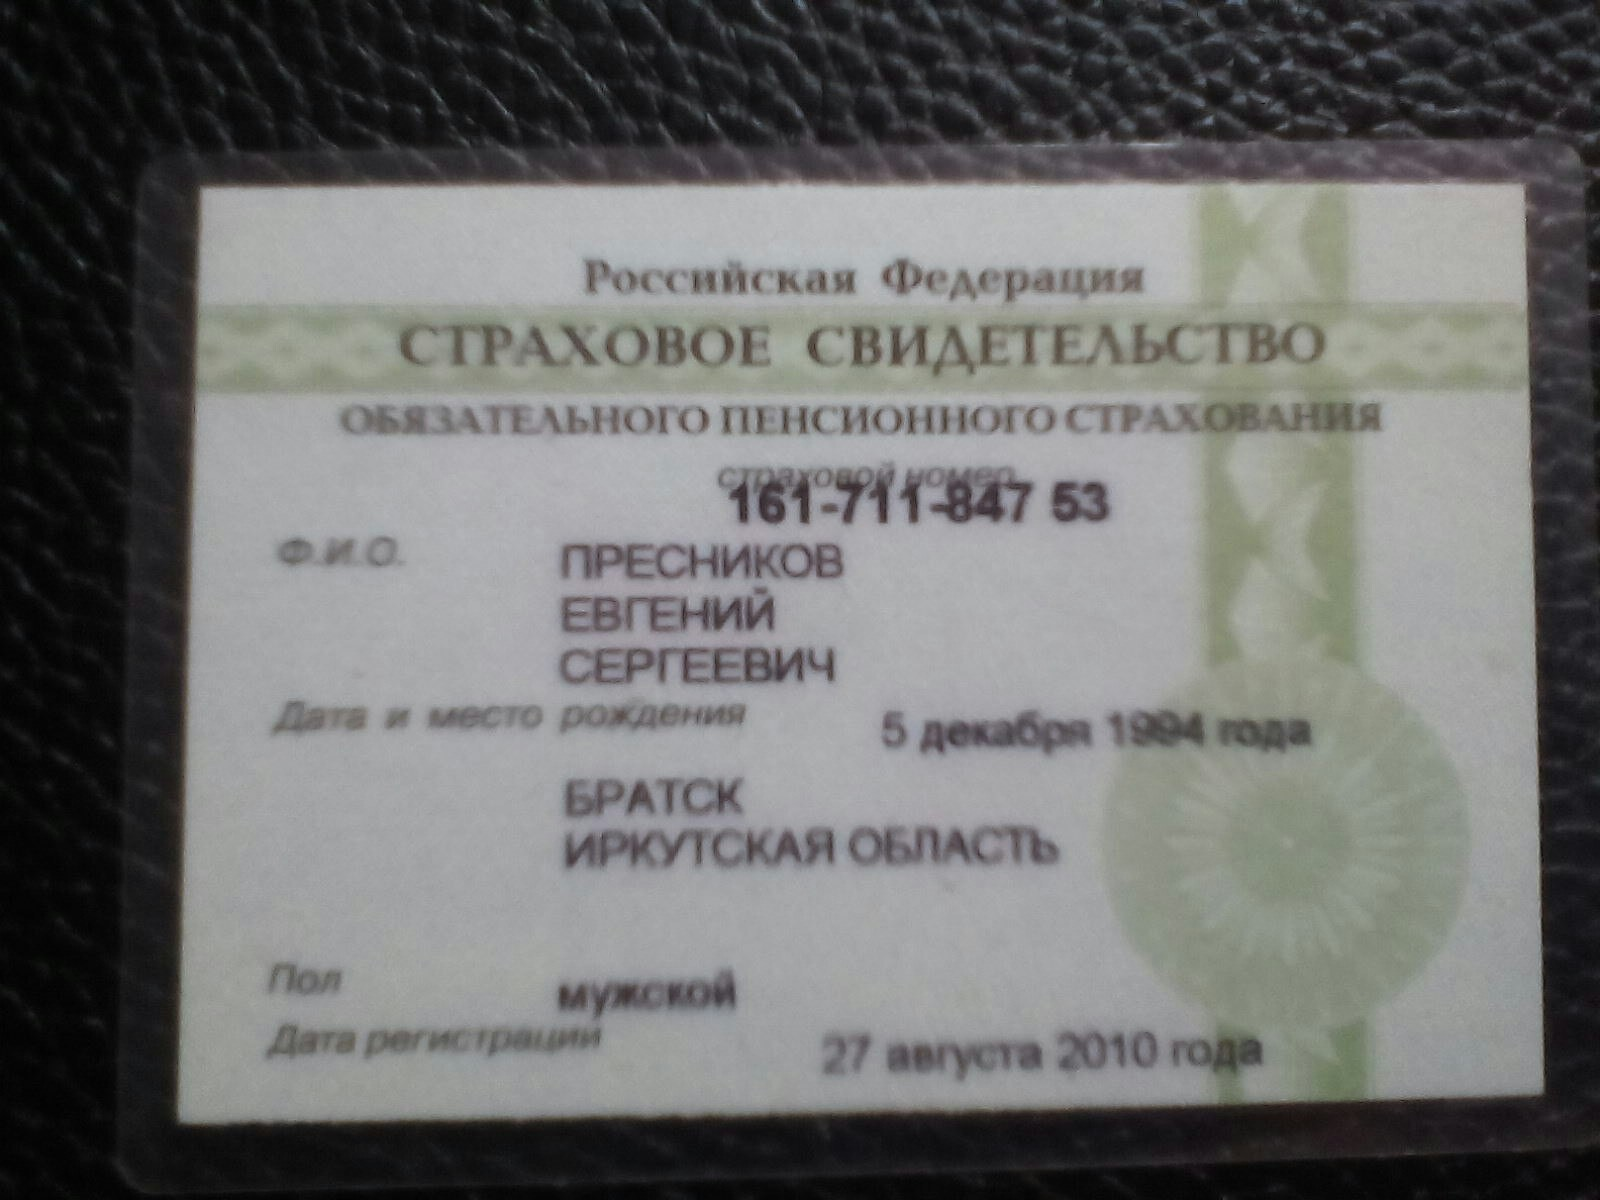text: (790, 1021, 1276, 1087), (549, 821, 1078, 870), (862, 703, 1311, 755), (724, 476, 1128, 524), (548, 534, 866, 587), (553, 638, 853, 684), (542, 760, 751, 824), (542, 586, 787, 634), (708, 451, 1022, 487), (546, 966, 765, 1015)
